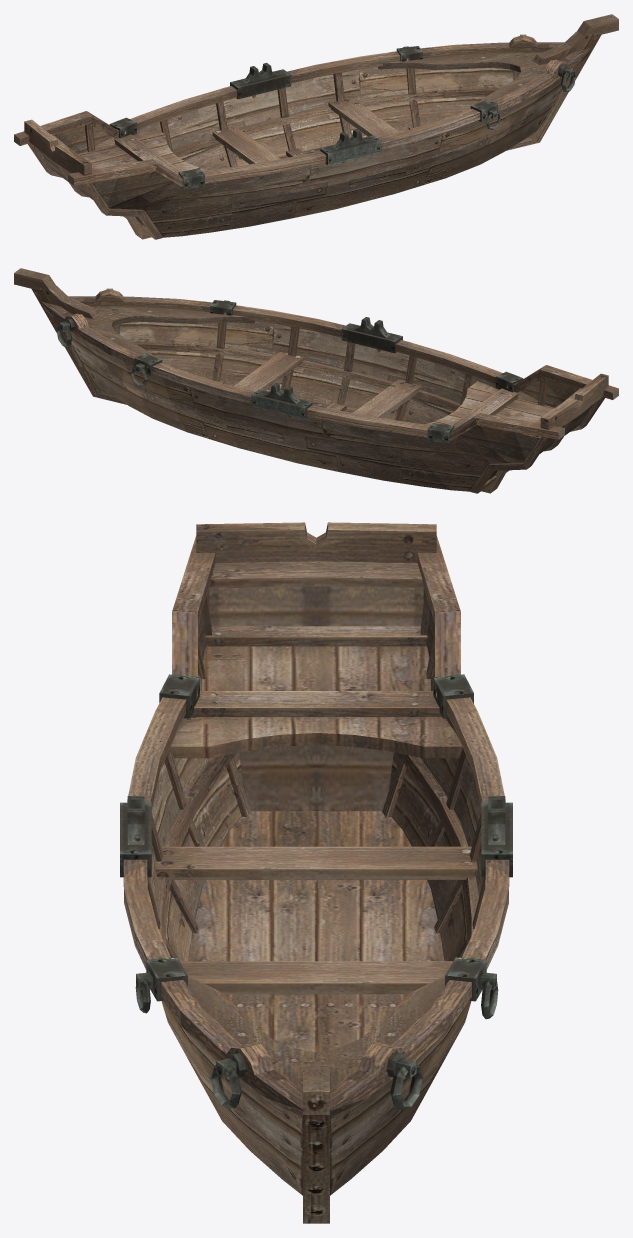
Rendered from bg_lut_common_ship01_sm_kbw.FBX.
3 renders of one model, top to bottom at view 1: azimuth 30°, elevation 25°; view 2: azimuth 150°, elevation 25°; view 3: azimuth 270°, elevation 25°, orthographic. The views are drawn at different scales.
Visible parts, largest first — view 1: bg_lut_common_ship01_sm_kbw; view 2: bg_lut_common_ship01_sm_kbw; view 3: bg_lut_common_ship01_sm_kbw.
Boxes of the visible parts, x1,y1,x2,y2 form: bg_lut_common_ship01_sm_kbw: (14, 14, 618, 239); bg_lut_common_ship01_sm_kbw: (14, 268, 618, 493); bg_lut_common_ship01_sm_kbw: (120, 522, 512, 1223).
Bounding box in the file's own units: 495 × 94.73 × 147.
